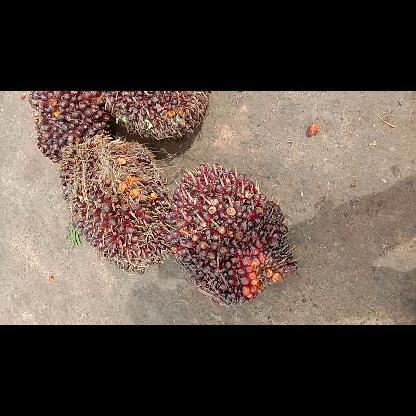Kurang masak: (165, 164, 299, 304), (64, 135, 172, 273), (29, 90, 113, 162), (104, 91, 209, 138)
